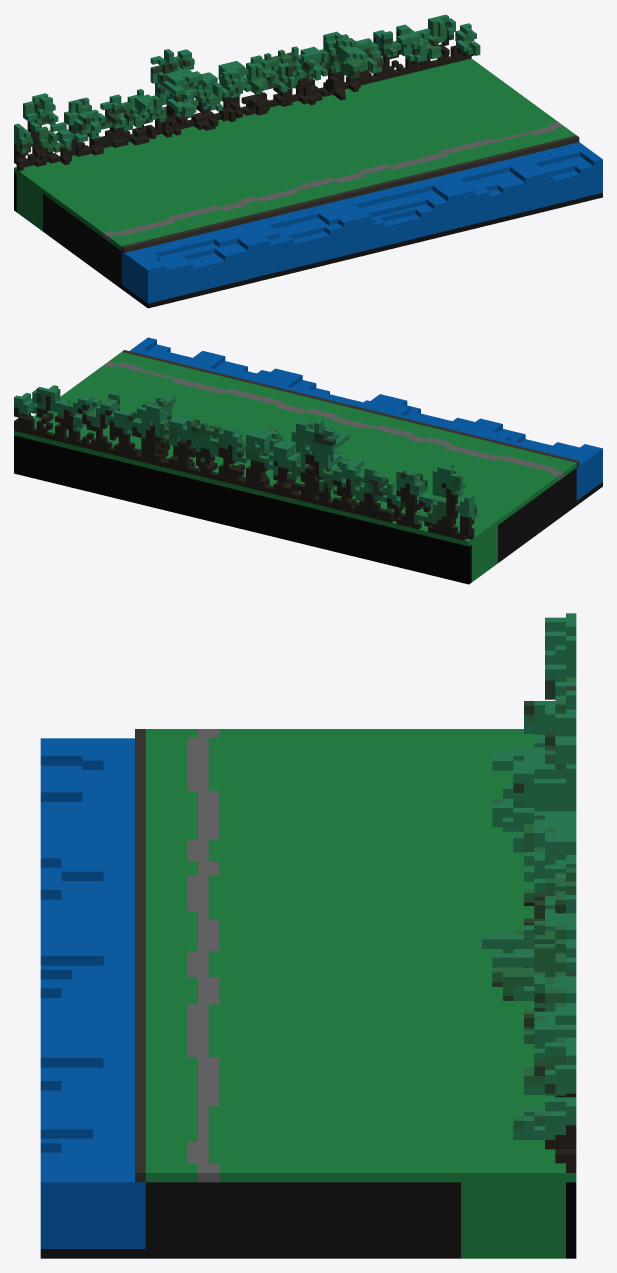
Rendered from Park 1.obj.
The picture shows the model from 3 angles, top to bottom: view 1: azimuth 30°, elevation 25°; view 2: azimuth 150°, elevation 25°; view 3: azimuth 270°, elevation 25°; orthographic projection. The views are drawn at different scales.
Parts seen in each view (by area): view 1: Park 1; view 2: Park 1; view 3: Park 1.
Boxes of the visible parts, <box> form: Park 1: <box>14,14,602,308</box>; Park 1: <box>14,337,602,584</box>; Park 1: <box>40,613,576,1258</box>.
Bounding box in the file's own units: 100 × 26 × 51.
1 material, 1 textured.
